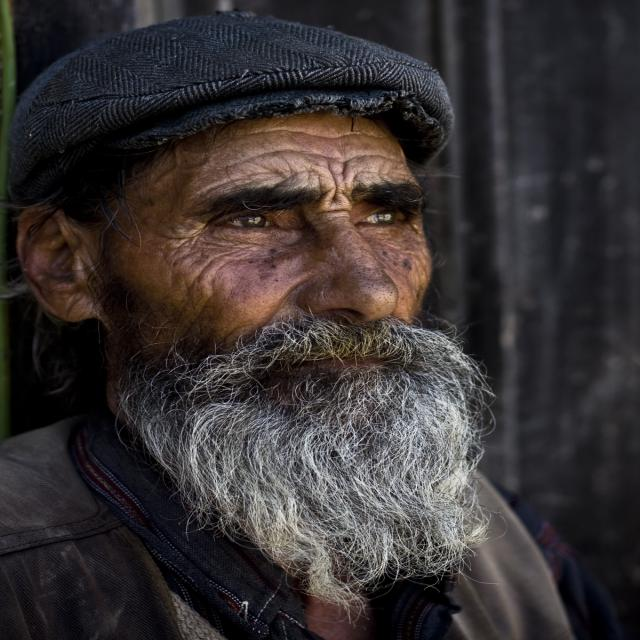left: (163, 141, 456, 433)
